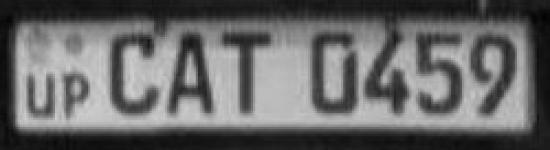0: (300, 21, 362, 122), (363, 22, 414, 120)
5: (412, 25, 468, 121)
9: (468, 27, 522, 125)
A: (165, 29, 216, 120)
C: (101, 31, 162, 116)
P: (60, 67, 94, 124)
T: (218, 28, 278, 119)
U: (23, 68, 58, 122)
